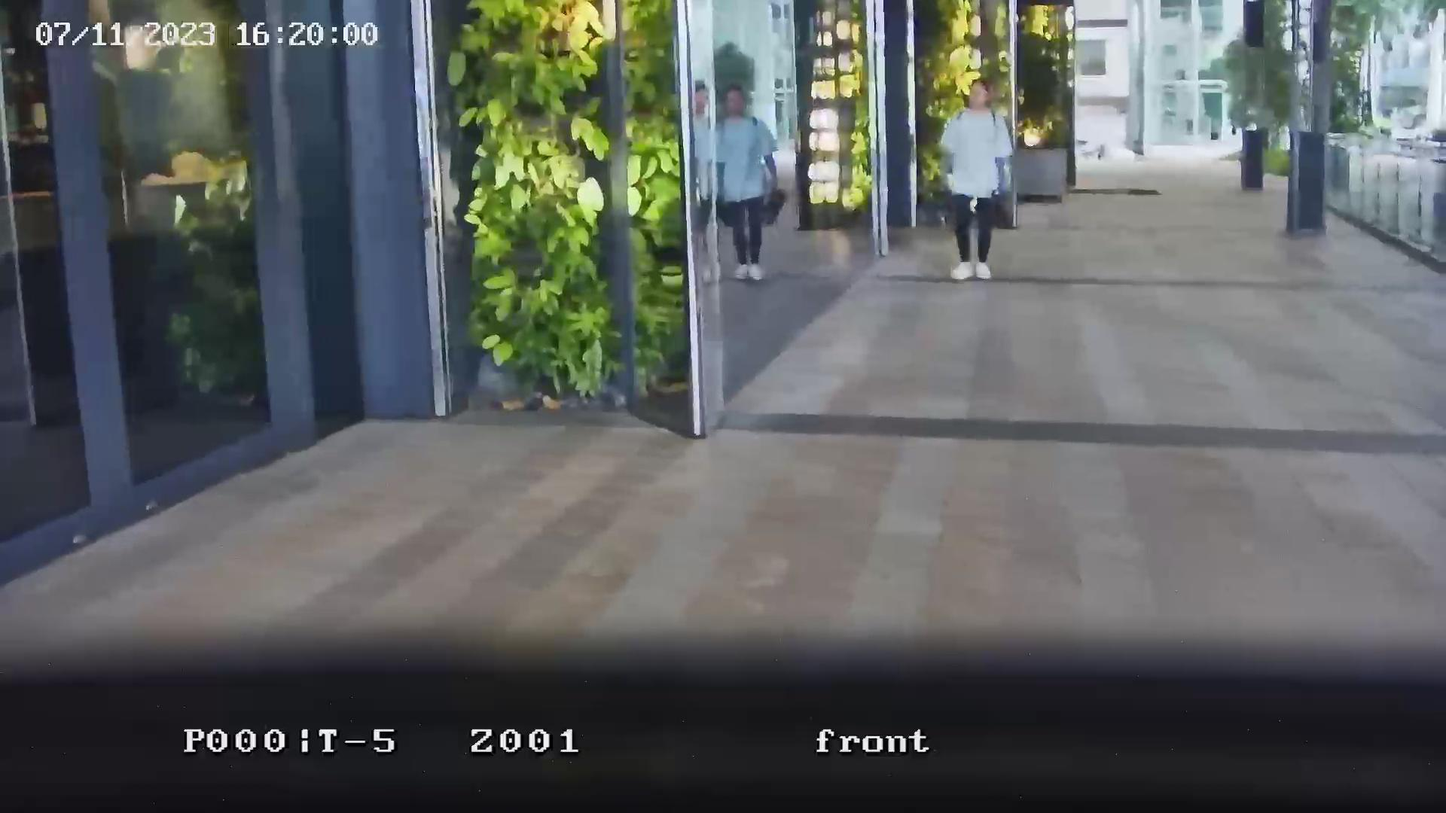person: (939, 78, 1014, 282), (712, 84, 781, 283)
